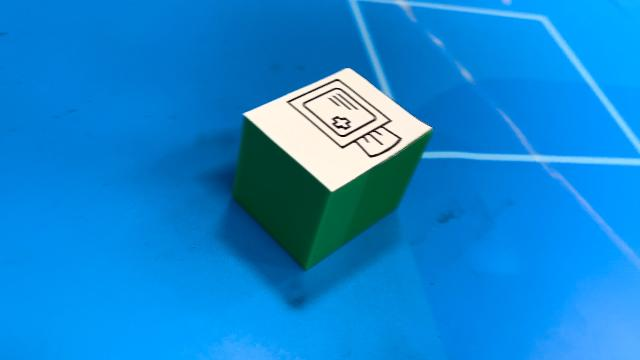napkin: (236, 69, 432, 269)
